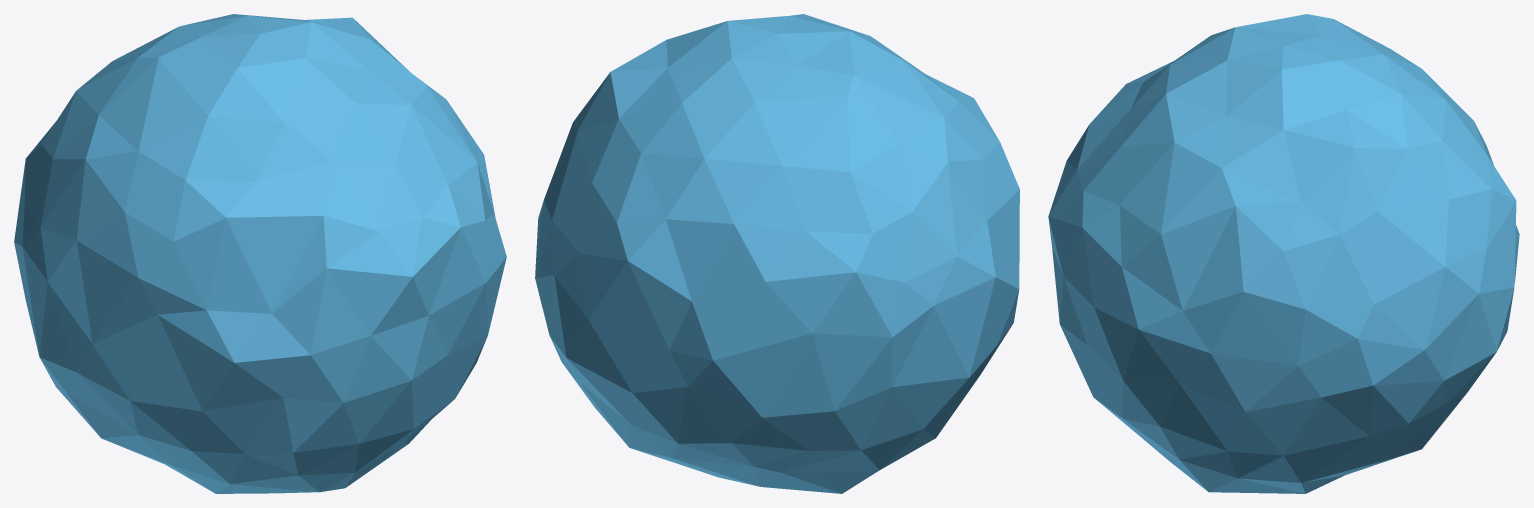
File: SircleCave-Crystals.fbx
3 renders of one model, left to right at view 1: azimuth 30°, elevation 25°; view 2: azimuth 150°, elevation 25°; view 3: azimuth 270°, elevation 25°, orthographic. The views are drawn at different scales.
Visible parts, largest first — view 1: Icosphere; view 2: Icosphere; view 3: Icosphere.
Part boxes in pixels (x1=…): Icosphere: x1=14, y1=14, x2=506, y2=493; Icosphere: x1=535, y1=14, x2=1019, y2=493; Icosphere: x1=1048, y1=14, x2=1519, y2=493.
Size of the model in its own units: 740 by 739 by 740.
